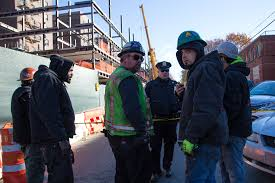helmet: (178, 29, 204, 46), (221, 39, 239, 57), (123, 41, 145, 53)
vest: (107, 71, 152, 135)
